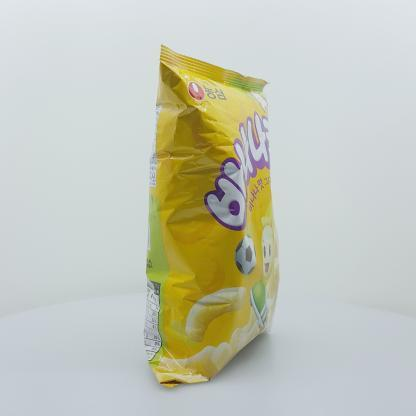Plastic Packaging: (139, 35, 298, 397)
